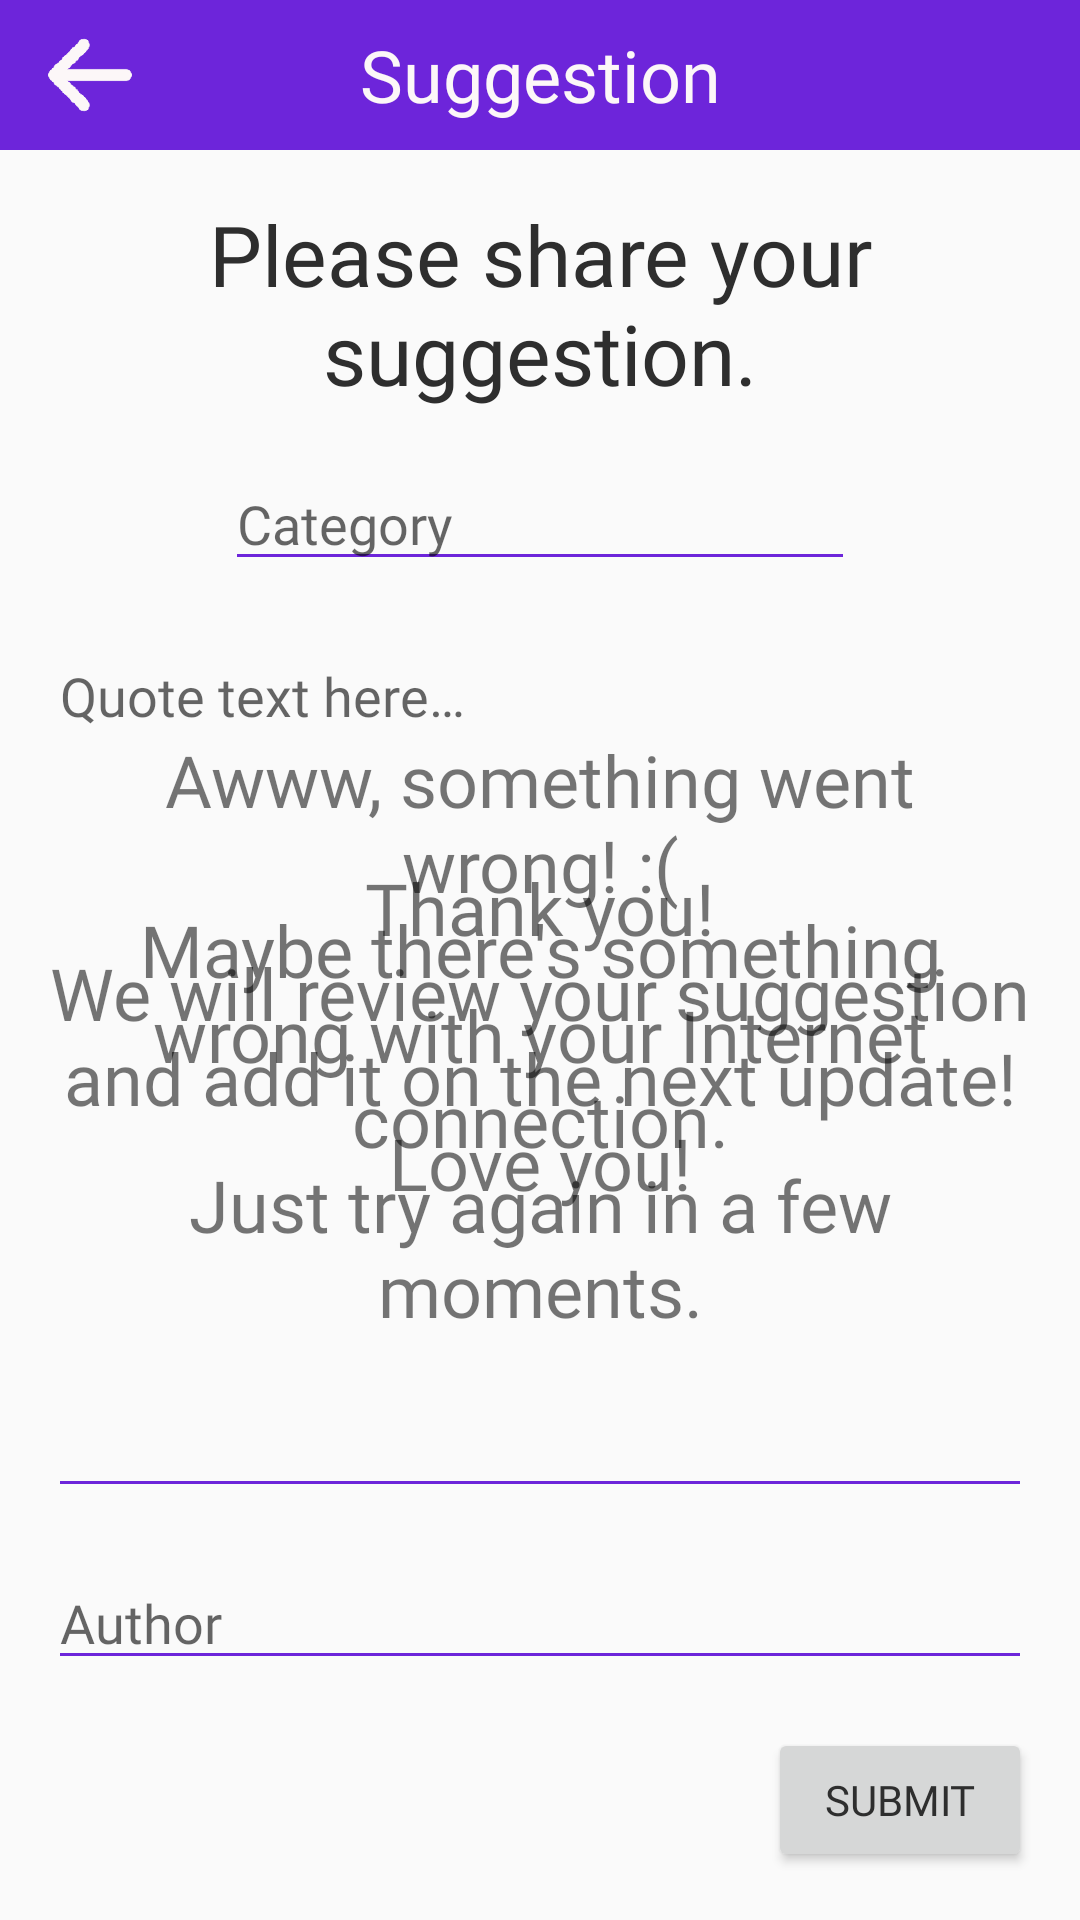

Where to tap for icons on this 1080px x 1920px app screen, as (x=x, y=y):
up button: (x=90, y=75)
